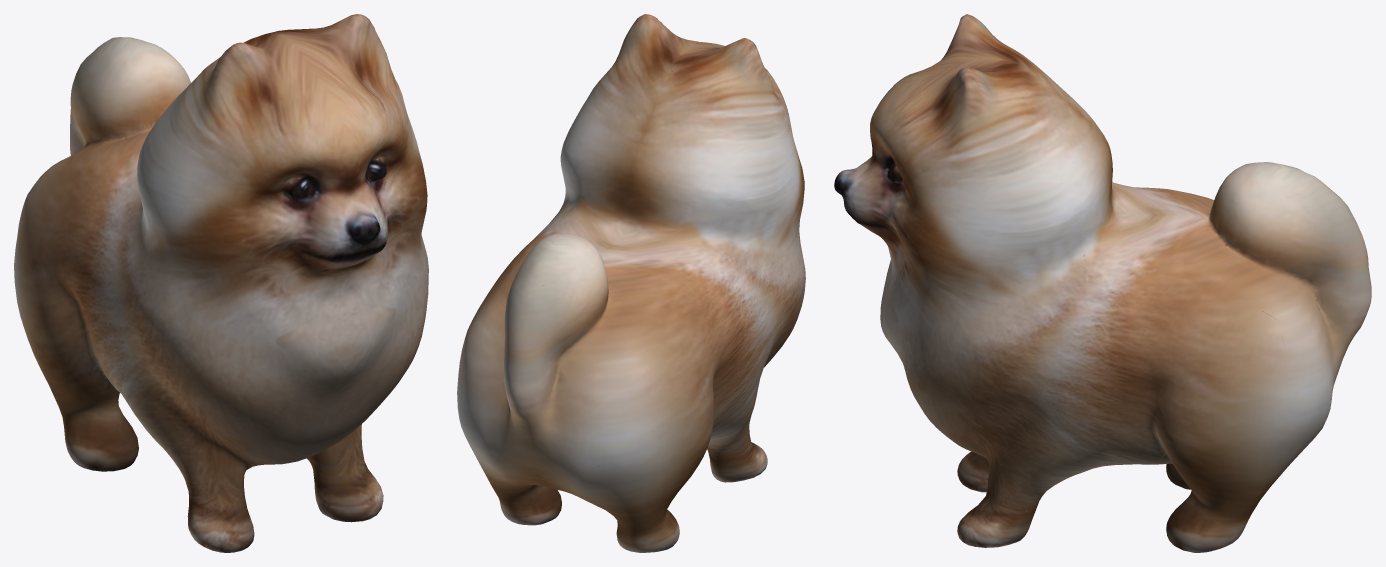
Rendered from Pomeranian.fbx.
3 views of the same model, side by side, from view 1: azimuth 30°, elevation 25°; view 2: azimuth 150°, elevation 25°; view 3: azimuth 270°, elevation 25° (orthographic). The views are drawn at different scales.
Parts seen in each view (by area): view 1: Pomeranian; view 2: Pomeranian; view 3: Pomeranian.
Part boxes in pixels (x1,y1,x2,y2): Pomeranian: (14, 14, 428, 552); Pomeranian: (457, 14, 805, 552); Pomeranian: (834, 14, 1371, 552).
Size of the model in its own units: 298 by 530 by 548.
1 material, 1 textured.
